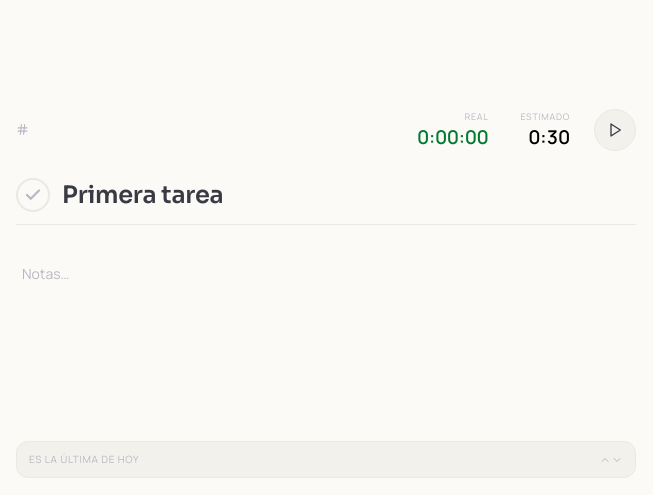
Test: FocusView › al completar la última muestra el resumen sin recargar
Expected: the heading "Primera tarea" is shown, x1=62 y1=180 x2=224 y2=210
Click the button named "Completar tarea".
click(33, 195)  # box x1=16 y1=178 x2=50 y2=212
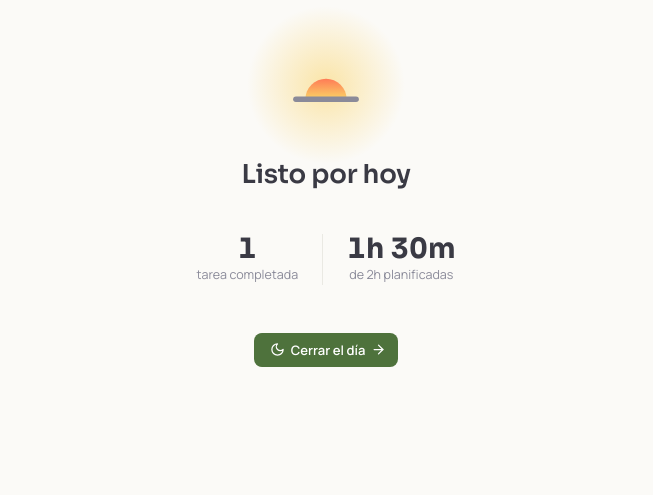
Now the heading "Listo por hoy" is shown, box x1=241 y1=155 x2=411 y2=194
Now the text "1h 30m" is shown, box x1=347 y1=234 x2=456 y2=265
